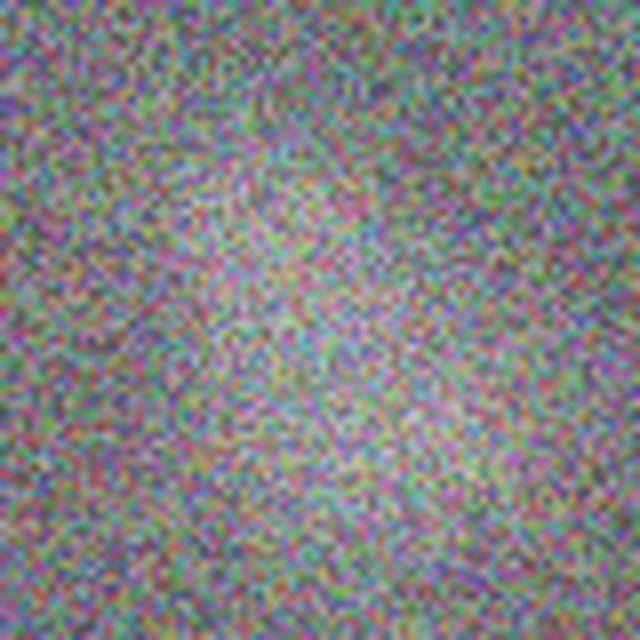smoke: (187, 193, 455, 461)
